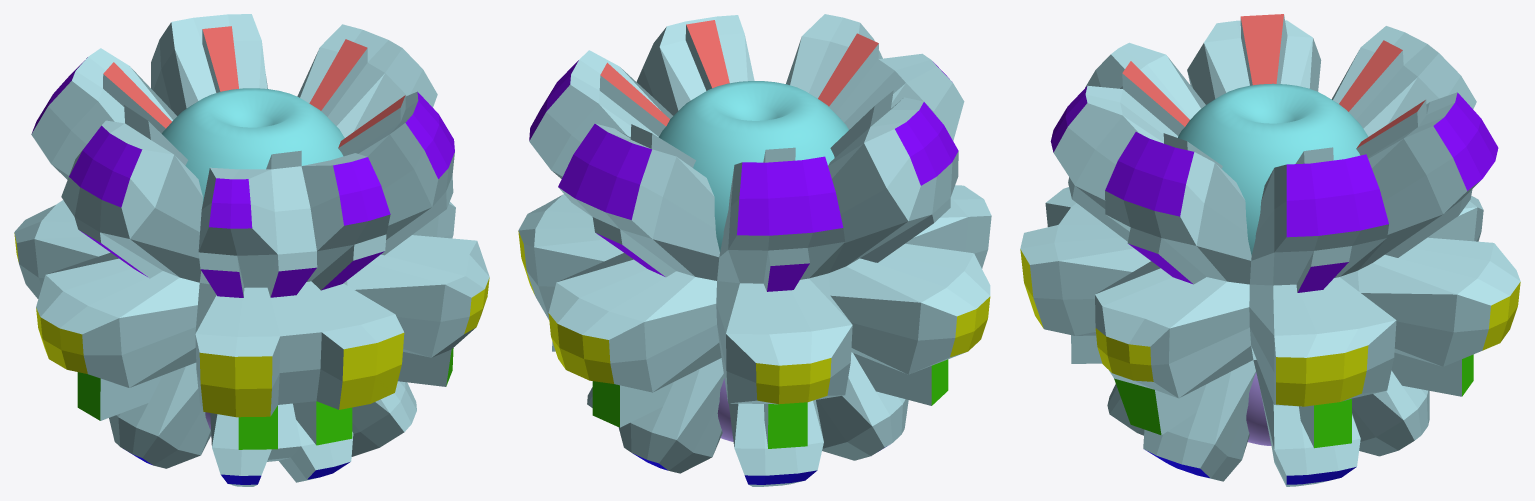
File: robot.fbx
3 renders of one model, left to right at view 1: azimuth 30°, elevation 25°; view 2: azimuth 150°, elevation 25°; view 3: azimuth 270°, elevation 25°, orthographic.
Visible parts, largest first — view 1: Sphere, Sphere.002; view 2: Sphere, Sphere.002, Sphere.001; view 3: Sphere, Sphere.002, Sphere.001.
Boxes of the visible parts, x1,y1,x2,y2 form: Sphere: (14, 14, 489, 486); Sphere.002: (162, 88, 344, 203); Sphere: (518, 14, 991, 486); Sphere.002: (659, 81, 848, 251); Sphere.001: (717, 378, 733, 441); Sphere: (1020, 14, 1520, 486); Sphere.002: (1178, 83, 1368, 255); Sphere.001: (1246, 372, 1271, 445).
Bounding box in the file's own units: 404 × 333 × 410.
